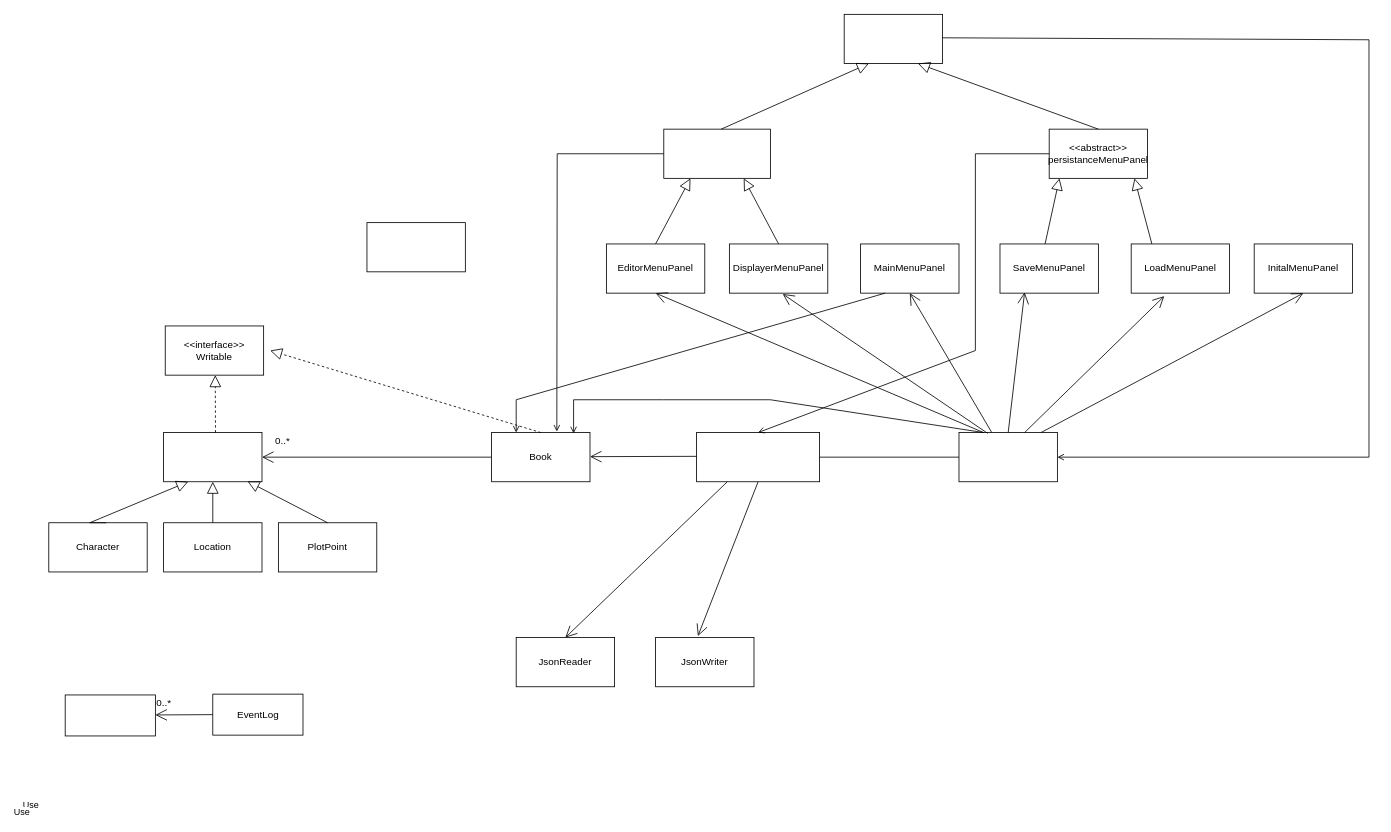
Some shapes in this 1391 by 832 pixel diagram are drawn without their labels. The shapes that lost their labels are listed below. From the top down, each one's centre as x and y in pixels, then its label:
(x=893, y=39): <<abstract>> MenuPanel
(x=716, y=153): <<abstract>> InformationMenuPanel
(x=415, y=247): Main
(x=212, y=457): <<abstract>> Information
(x=758, y=457): ReadingCompanionApp
(x=1007, y=457): VisualHandler
(x=109, y=715): Event
